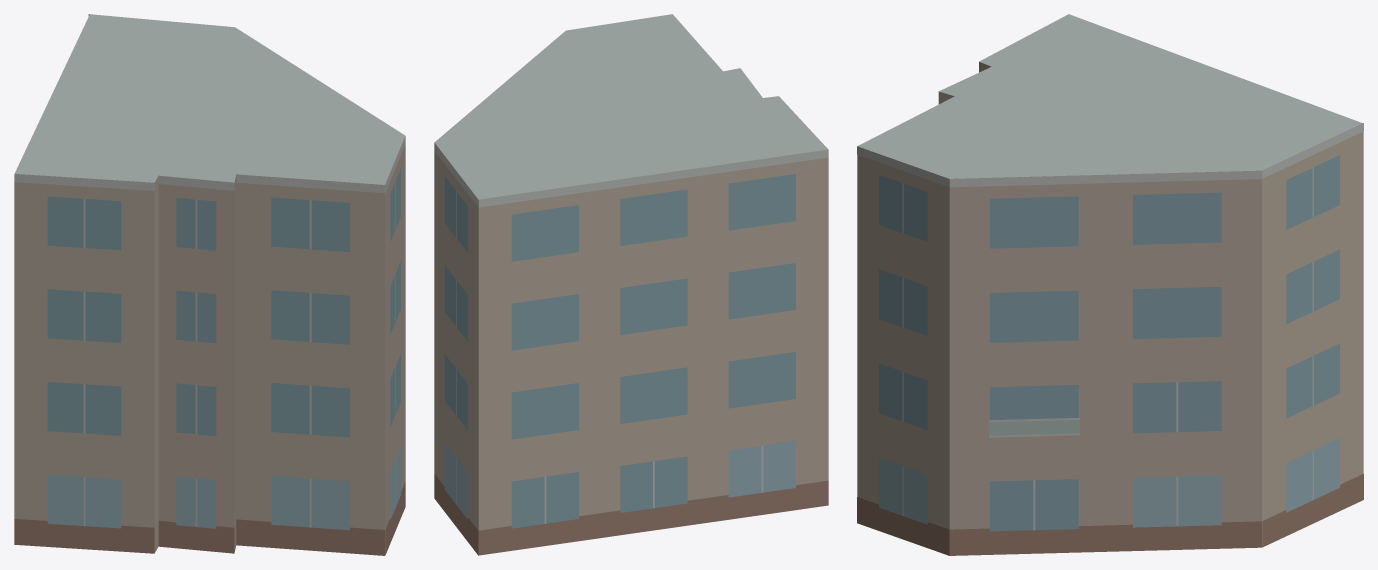
The model's file is survey-upis-32949854.glb.
3 views of the same model, side by side, from view 1: azimuth 30°, elevation 25°; view 2: azimuth 150°, elevation 25°; view 3: azimuth 270°, elevation 25° (orthographic). The views are drawn at different scales.
Visible parts, largest first — view 1: survey-upis-32949854.tmp; view 2: survey-upis-32949854.tmp; view 3: survey-upis-32949854.tmp.
Part boxes in pixels (x1,y1,x2,y2): survey-upis-32949854.tmp: (14, 14, 405, 555); survey-upis-32949854.tmp: (434, 14, 828, 555); survey-upis-32949854.tmp: (857, 14, 1363, 555).
Bounding box in the file's own units: 10.23 × 10.9 × 13.28.
